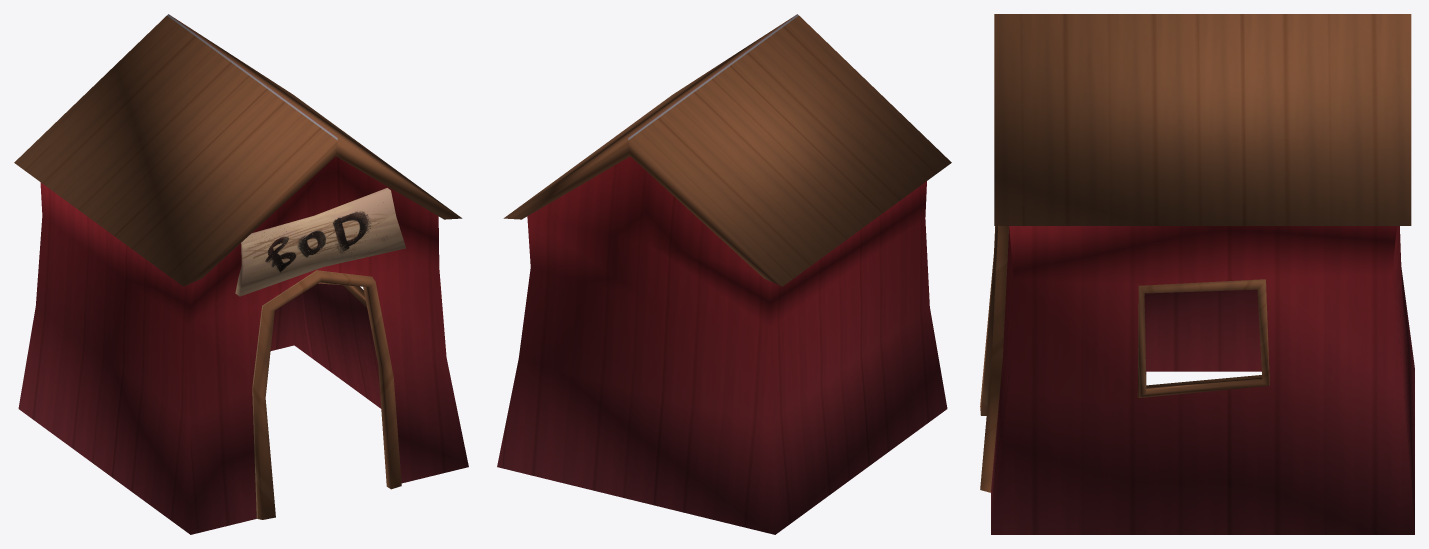
The model's file is OBJ_DogHouse.glb.
3 renders of one model, left to right at view 1: azimuth 30°, elevation 25°; view 2: azimuth 150°, elevation 25°; view 3: azimuth 270°, elevation 25°, orthographic. The views are drawn at different scales.
Visible parts, largest first — view 1: OBJ_DogHouse; view 2: OBJ_DogHouse; view 3: OBJ_DogHouse.
Boxes of the visible parts, box(x1,y1,x2,y2) form: OBJ_DogHouse: box(14, 14, 468, 534); OBJ_DogHouse: box(497, 14, 951, 534); OBJ_DogHouse: box(980, 14, 1414, 534).
Bounding box in the file's own units: 13.88 × 16.8 × 14.94.
Materials: 1 (1 with a texture image).
